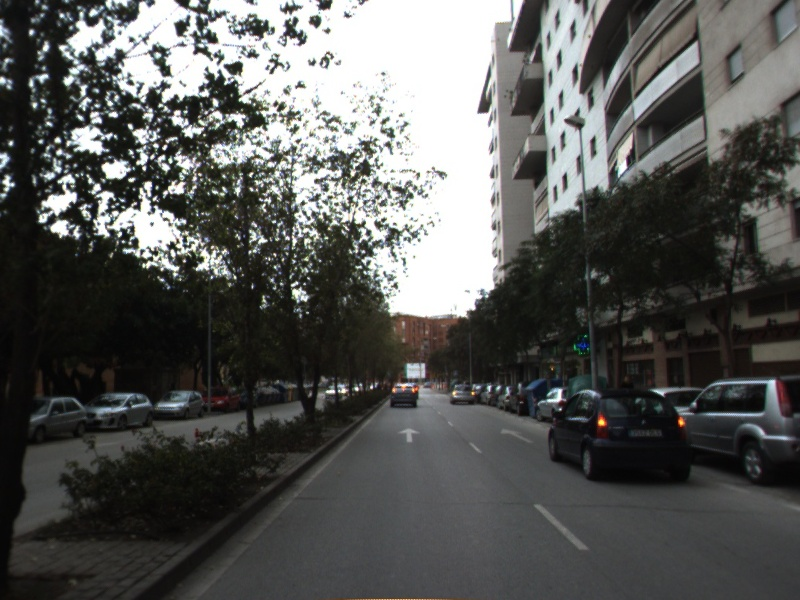STRAIGHT: (498, 425, 538, 446), (395, 425, 424, 444)
